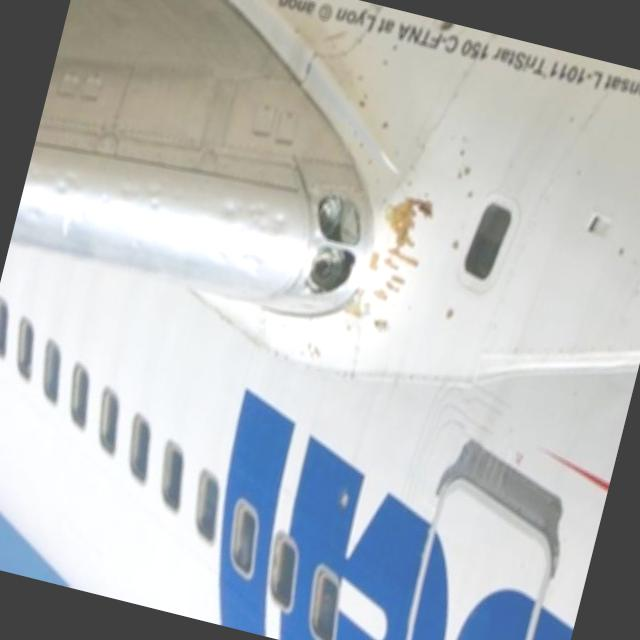dent: (15, 141, 292, 282)
